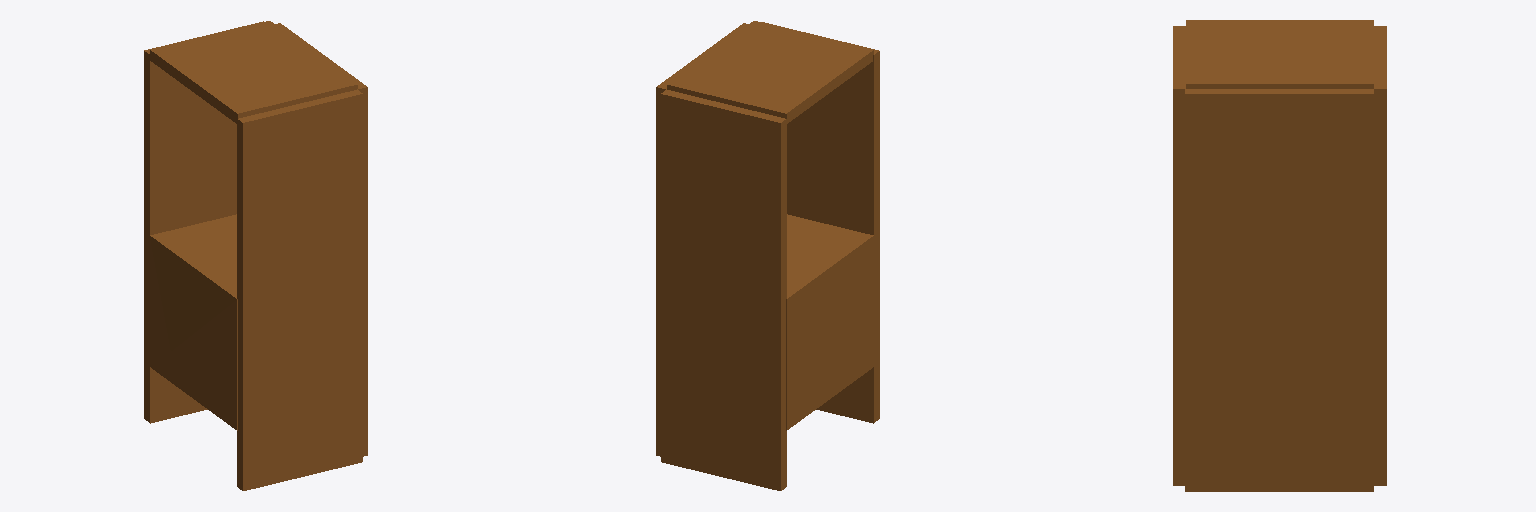
The robot description file, URDF, robot "dummy":
<?xml version="1.0"?>
<robot name="dummy">
  <link name="bottom_wall">
    <visual>
      <origin xyz="0.0 0.0 0.09046612498029191" rpy="0 0 0"/>
      <geometry>
        <mesh filename="bottom_wall.obj" scale="1 1 1"/>
      </geometry>
      <material name="brown">
        <color rgba="0.6 0.4 0.2 1.0"/>
      </material>
    </visual>
    <collision>
      <origin xyz="0.0 0.0 0.09046612498029191" rpy="0 0 0"/>
      <geometry>
        <mesh filename="bottom_wall.obj" scale="1 1 1"/>
      </geometry>
    </collision>
  </link>

  <link name="left_wall">
    <visual>
      <origin xyz="0.0 -0.1340810945654402 0.0" rpy="0 0 0"/>
      <geometry>
        <mesh filename="vertical_wall.obj" scale="1 1 1"/>
      </geometry>
      <material name="brown">
        <color rgba="0.6 0.4 0.2 1.0"/>
      </material>
    </visual>
    <collision>
      <origin xyz="0.0 -0.1340810945654402 0.0" rpy="0 0 0"/>
      <geometry>
        <mesh filename="vertical_wall.obj" scale="1 1 1"/>
      </geometry>
    </collision>
  </link>

  <link name="right_wall">
    <visual>
      <origin xyz="0.0 0.1340810945654402 0.0" rpy="0 0 0"/>
      <geometry>
        <mesh filename="vertical_wall.obj" scale="1 1 1"/>
      </geometry>
      <material name="brown">
        <color rgba="0.6 0.4 0.2 1.0"/>
      </material>
    </visual>
    <collision>
      <origin xyz="0.0 0.1340810945654402 0.0" rpy="0 0 0"/>
      <geometry>
        <mesh filename="vertical_wall.obj" scale="1 1 1"/>
      </geometry>
    </collision>
  </link>

  <link name="back_wall">
    <visual>
      <origin xyz="0.10786533470538516 0.0 0.0" rpy="0 0 0"/>
      <geometry>
        <mesh filename="back_wall.obj" scale="1 1 1"/>
      </geometry>
      <material name="brown">
        <color rgba="0.6 0.4 0.2 1.0"/>
      </material>
    </visual>
    <collision>
      <origin xyz="0.10786533470538516 0.0 0.0" rpy="0 0 0"/>
      <geometry>
        <mesh filename="back_wall.obj" scale="1 1 1"/>
      </geometry>
    </collision>
  </link>

  <link name="top_wall">
    <visual>
      <origin xyz="0.0 0.0 0.5778857172066505" rpy="0 0 0"/>
      <geometry>
        <mesh filename="top_wall.obj" scale="1 1 1"/>
      </geometry>
      <material name="brown">
        <color rgba="0.6 0.4 0.2 1.0"/>
      </material>
    </visual>
    <collision>
      <origin xyz="0.0 0.0 0.5778857172066505" rpy="0 0 0"/>
      <geometry>
        <mesh filename="top_wall.obj" scale="1 1 1"/>
      </geometry>
    </collision>
  </link>

  <joint name="left_wall_joint" type="fixed">
    <origin xyz="0 0 0" rpy="0 0 0"/>
    <parent link="bottom_wall"/>
    <child link="left_wall"/>
  </joint>

  <joint name="right_wall_joint" type="fixed">
    <origin xyz="0 0 0" rpy="0 0 0"/>
    <parent link="bottom_wall"/>
    <child link="right_wall"/>
  </joint>

  <joint name="back_wall_joint" type="fixed">
    <origin xyz="0 0 0" rpy="0 0 0"/>
    <parent link="bottom_wall"/>
    <child link="back_wall"/>
  </joint>

  <joint name="top_wall_joint" type="fixed">
    <origin xyz="0 0 0" rpy="0 0 0"/>
    <parent link="bottom_wall"/>
    <child link="top_wall"/>
  </joint>

</robot>

--- Render facts (derived) ---
3 views of the same robot in one strip: view 1: azimuth 30°, elevation 25°; view 2: azimuth 150°, elevation 25°; view 3: azimuth 270°, elevation 25° (orthographic).
Robot: dummy — 5 links, 4 joints (4 fixed); root link bottom_wall; default pose: every joint at zero.
Visible links, largest first — view 1: left_wall, bottom_wall, right_wall, top_wall, back_wall; view 2: right_wall, bottom_wall, left_wall, top_wall, back_wall; view 3: back_wall, top_wall, right_wall, left_wall.
Boxes of the visible links, bbox=[...] form: left_wall: bbox=[237, 90, 362, 490]; bottom_wall: bbox=[149, 214, 237, 430]; right_wall: bbox=[144, 21, 263, 423]; top_wall: bbox=[150, 21, 357, 123]; back_wall: bbox=[276, 23, 367, 456]; right_wall: bbox=[661, 90, 786, 490]; bottom_wall: bbox=[786, 214, 874, 430]; left_wall: bbox=[762, 22, 879, 423]; top_wall: bbox=[667, 21, 873, 123]; back_wall: bbox=[656, 23, 748, 456]; back_wall: bbox=[1185, 89, 1373, 491]; top_wall: bbox=[1186, 20, 1373, 88]; right_wall: bbox=[1374, 26, 1386, 485]; left_wall: bbox=[1173, 26, 1185, 485].
Size in the robot's own frame: 0.2179 by 0.2862 by 0.5953 metres.
Meshes: 4 distinct files referenced, 5 mesh visuals loaded (4 OBJ).
